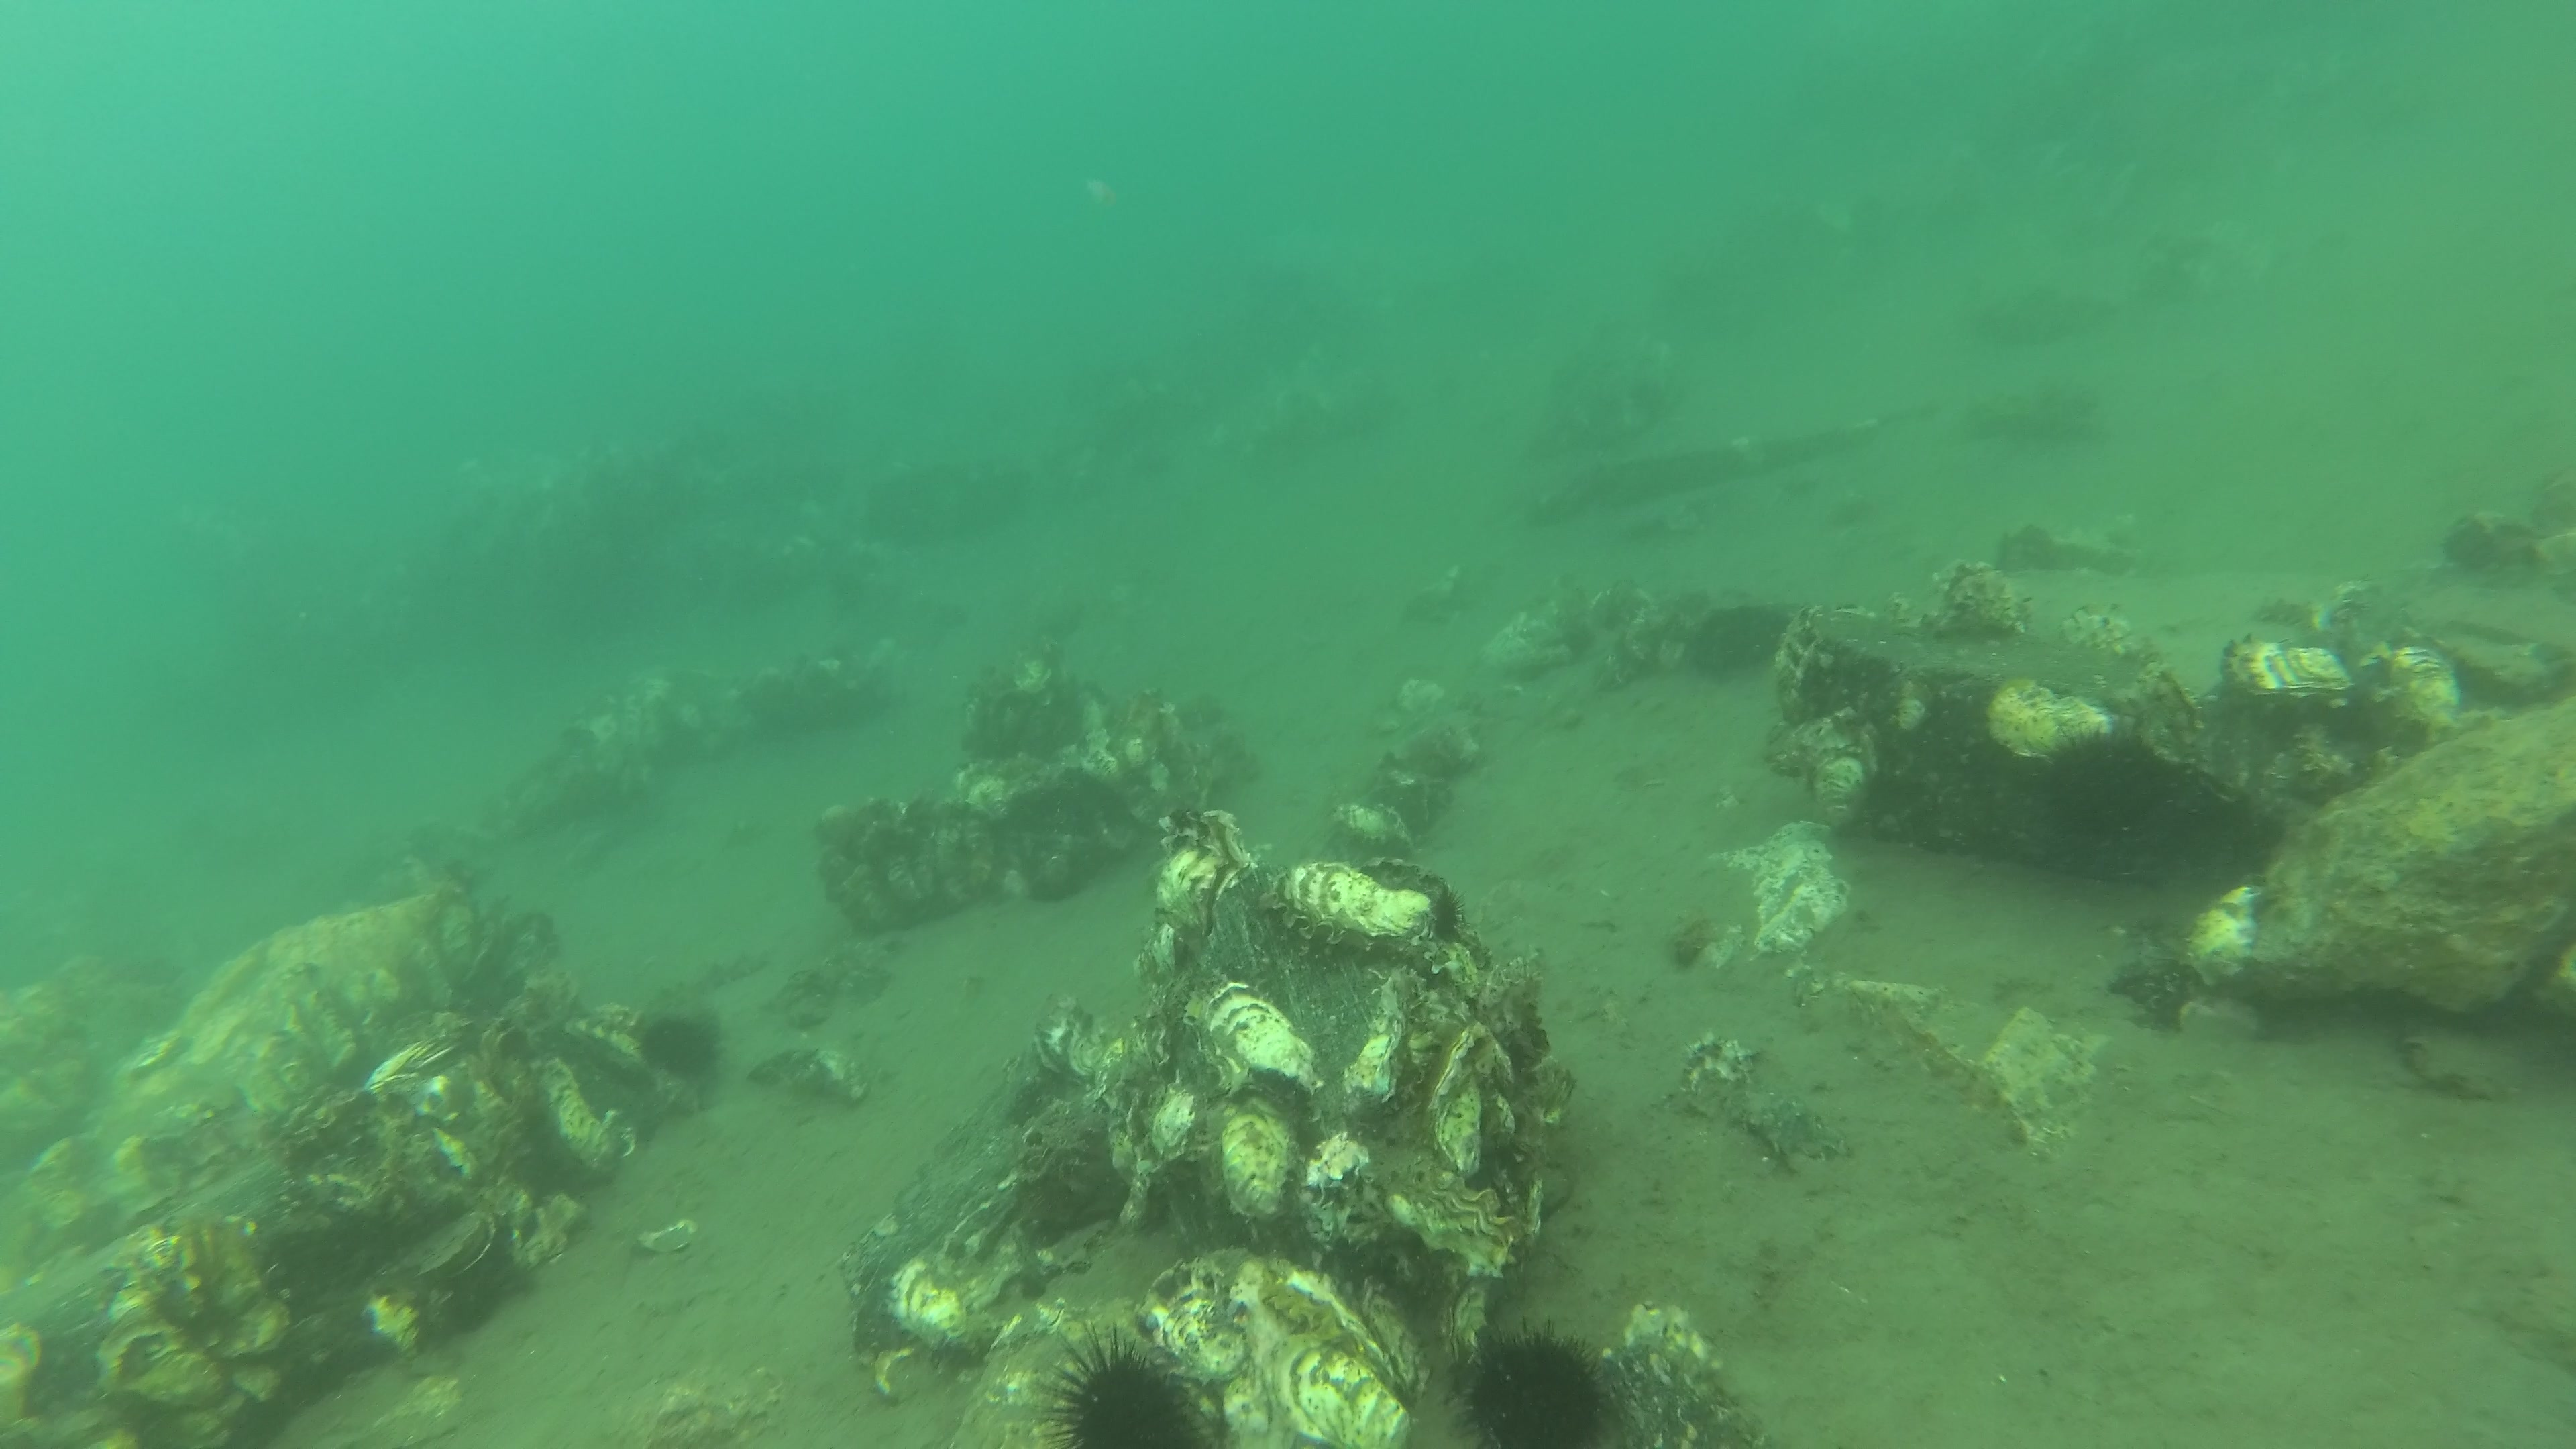echinus: (1028, 1311, 1224, 1449), (1449, 1307, 1621, 1449), (2028, 715, 2181, 840), (630, 1012, 725, 1079)
